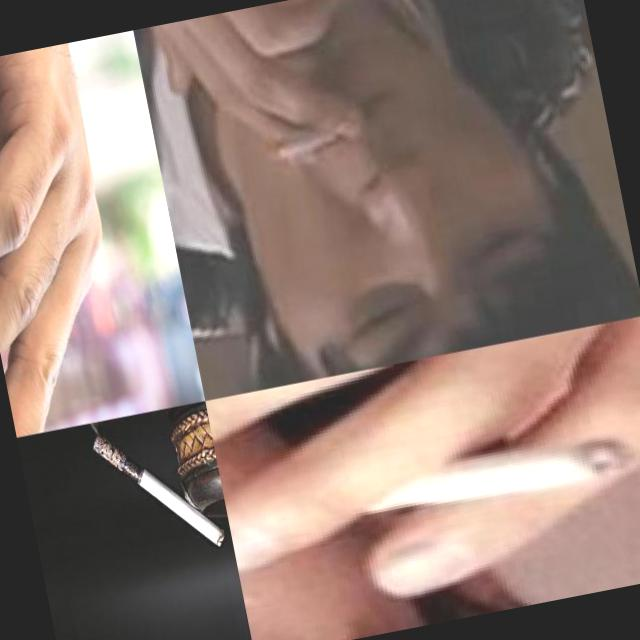smoke: (308, 422, 638, 534), (88, 412, 231, 574), (248, 104, 358, 179)
